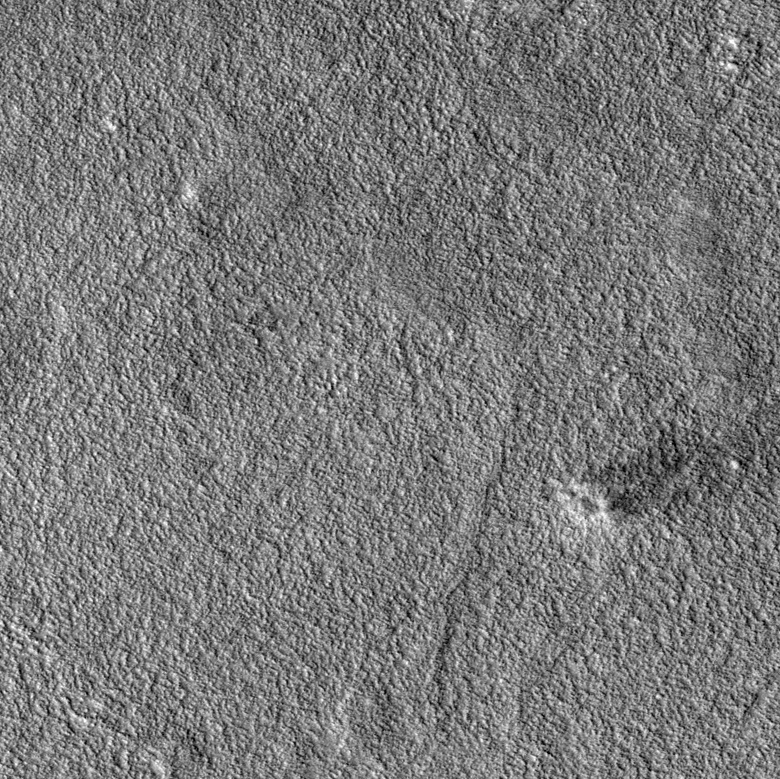dust_devil: (554, 431, 699, 529)
